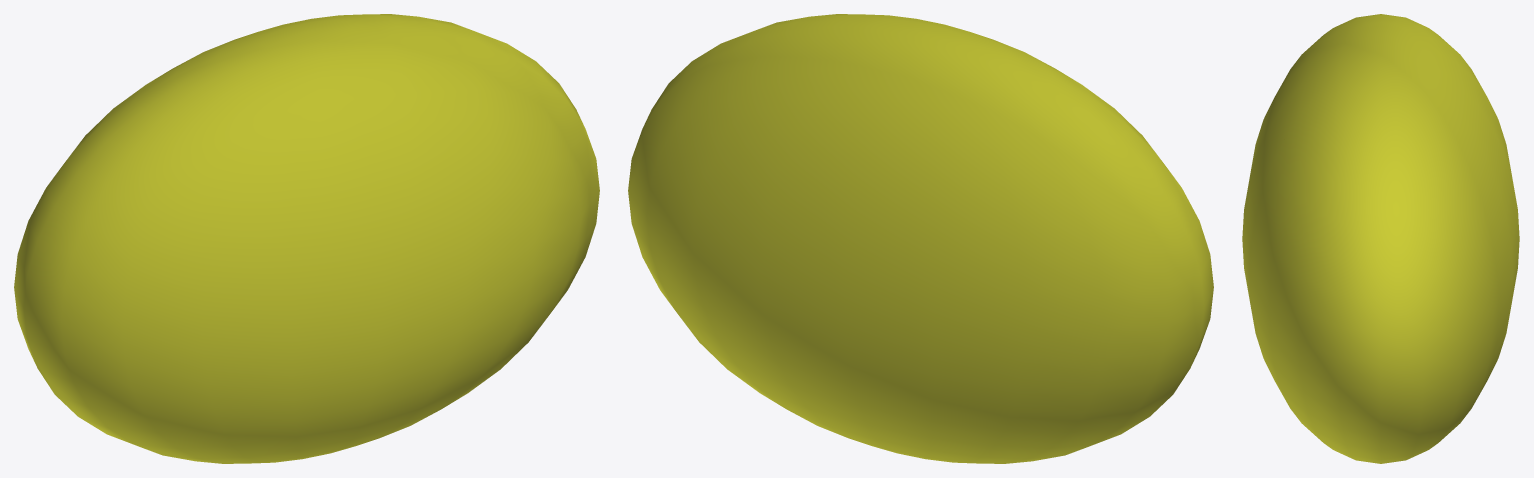
File: lamp_light.dae
The picture shows the model from 3 angles, left to right: view 1: azimuth 30°, elevation 25°; view 2: azimuth 150°, elevation 25°; view 3: azimuth 270°, elevation 25°; orthographic projection. The views are drawn at different scales.
Parts seen in each view (by area): view 1: pSphere5; view 2: pSphere5; view 3: pSphere5.
Boxes of the visible parts, bbox=[...] form: pSphere5: bbox=[14, 14, 599, 463]; pSphere5: bbox=[628, 14, 1213, 463]; pSphere5: bbox=[1242, 14, 1519, 463].
Bounding box in the file's own units: 1.5 × 1.05 × 0.7033.
